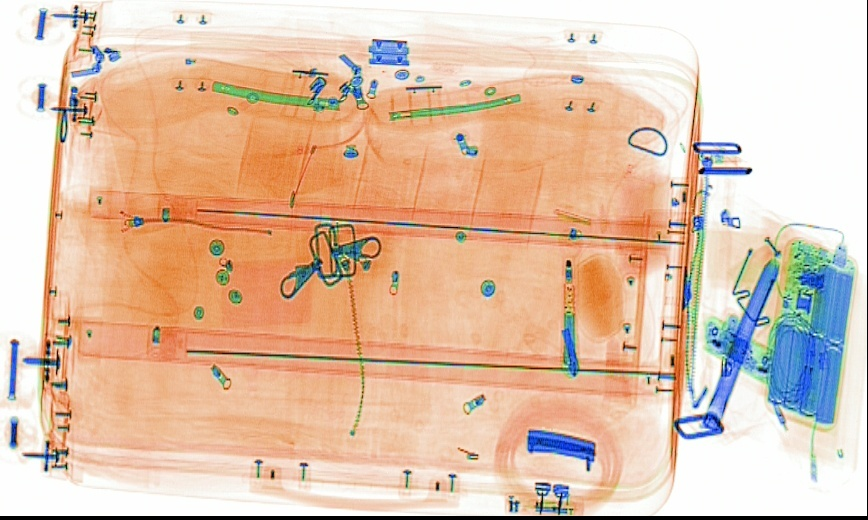powerbank: (760, 234, 858, 432)
